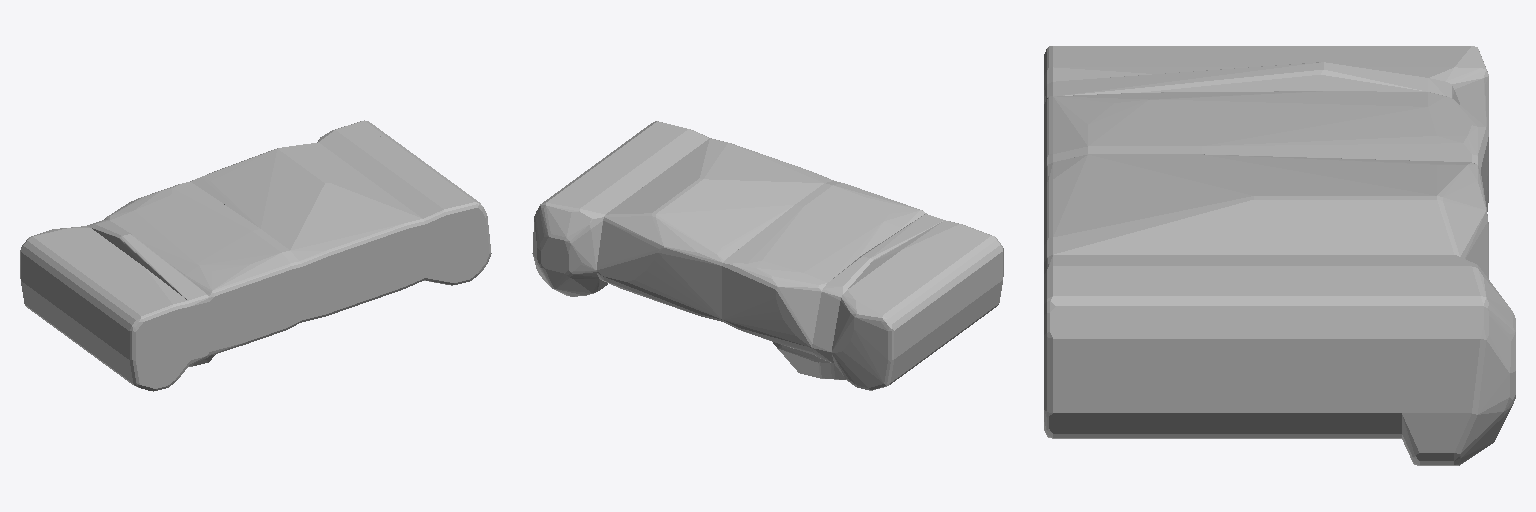
URDF robot description (root):
<robot name="root">
  <link name="link_coacd_convex_piece_0">
    <inertial>
      <origin xyz="0 0 0" rpy="0 0 0"/>
      <inertia ixx="1.26E-02" ixy="1.09E-03" ixz="-5.01E-03" iyy="1.44E-02" iyz="2.86E-04" izz="2.11E-02"/>
    </inertial>
    <visual>
      <origin xyz="0 0 0" rpy="0 0 0"/>
      <geometry>
        <mesh filename="coacd_convex_piece_0.obj" scale="1.0000E+00 1.0000E+00 1.0000E+00"/>
      </geometry>
      <material name="">
        <color rgba="7.50E-01 7.50E-01 7.50E-01 1"/>
      </material>
    </visual>
    <collision>
      <origin xyz="0 0 0" rpy="0 0 0"/>
      <geometry>
        <mesh filename="coacd_convex_piece_0.obj" scale="1.0000E+00 1.0000E+00 1.0000E+00"/>
      </geometry>
    </collision>
  </link>
  <link name="link_coacd_convex_piece_1">
    <inertial>
      <origin xyz="0 0 0" rpy="0 0 0"/>
      <inertia ixx="2.89E-03" ixy="-4.68E-03" ixz="-1.55E-03" iyy="9.38E-03" iyz="-8.44E-04" izz="1.15E-02"/>
    </inertial>
    <visual>
      <origin xyz="0 0 0" rpy="0 0 0"/>
      <geometry>
        <mesh filename="coacd_convex_piece_1.obj" scale="1.0000E+00 1.0000E+00 1.0000E+00"/>
      </geometry>
      <material name="">
        <color rgba="7.50E-01 7.50E-01 7.50E-01 1"/>
      </material>
    </visual>
    <collision>
      <origin xyz="0 0 0" rpy="0 0 0"/>
      <geometry>
        <mesh filename="coacd_convex_piece_1.obj" scale="1.0000E+00 1.0000E+00 1.0000E+00"/>
      </geometry>
    </collision>
  </link>
  <joint name="link_coacd_convex_piece_1_joint" type="fixed">
    <origin xyz="0 0 0" rpy="0 0 0"/>
    <parent link="link_coacd_convex_piece_0"/>
    <child link="link_coacd_convex_piece_1"/>
  </joint>
  <link name="link_coacd_convex_piece_2">
    <inertial>
      <origin xyz="0 0 0" rpy="0 0 0"/>
      <inertia ixx="5.10E-03" ixy="4.94E-03" ixz="-5.96E-03" iyy="2.98E-02" iyz="9.17E-04" izz="3.20E-02"/>
    </inertial>
    <visual>
      <origin xyz="0 0 0" rpy="0 0 0"/>
      <geometry>
        <mesh filename="coacd_convex_piece_2.obj" scale="1.0000E+00 1.0000E+00 1.0000E+00"/>
      </geometry>
      <material name="">
        <color rgba="7.50E-01 7.50E-01 7.50E-01 1"/>
      </material>
    </visual>
    <collision>
      <origin xyz="0 0 0" rpy="0 0 0"/>
      <geometry>
        <mesh filename="coacd_convex_piece_2.obj" scale="1.0000E+00 1.0000E+00 1.0000E+00"/>
      </geometry>
    </collision>
  </link>
  <joint name="link_coacd_convex_piece_2_joint" type="fixed">
    <origin xyz="0 0 0" rpy="0 0 0"/>
    <parent link="link_coacd_convex_piece_1"/>
    <child link="link_coacd_convex_piece_2"/>
  </joint>
  <link name="link_coacd_convex_piece_3">
    <inertial>
      <origin xyz="0 0 0" rpy="0 0 0"/>
      <inertia ixx="7.88E-03" ixy="-8.66E-04" ixz="1.72E-03" iyy="9.28E-03" iyz="1.23E-04" izz="1.55E-02"/>
    </inertial>
    <visual>
      <origin xyz="0 0 0" rpy="0 0 0"/>
      <geometry>
        <mesh filename="coacd_convex_piece_3.obj" scale="1.0000E+00 1.0000E+00 1.0000E+00"/>
      </geometry>
      <material name="">
        <color rgba="7.50E-01 7.50E-01 7.50E-01 1"/>
      </material>
    </visual>
    <collision>
      <origin xyz="0 0 0" rpy="0 0 0"/>
      <geometry>
        <mesh filename="coacd_convex_piece_3.obj" scale="1.0000E+00 1.0000E+00 1.0000E+00"/>
      </geometry>
    </collision>
  </link>
  <joint name="link_coacd_convex_piece_3_joint" type="fixed">
    <origin xyz="0 0 0" rpy="0 0 0"/>
    <parent link="link_coacd_convex_piece_2"/>
    <child link="link_coacd_convex_piece_3"/>
  </joint>
  <link name="link_coacd_convex_piece_4">
    <inertial>
      <origin xyz="0 0 0" rpy="0 0 0"/>
      <inertia ixx="1.32E-03" ixy="2.65E-04" ixz="-1.62E-03" iyy="3.77E-03" iyz="9.22E-05" izz="3.38E-03"/>
    </inertial>
    <visual>
      <origin xyz="0 0 0" rpy="0 0 0"/>
      <geometry>
        <mesh filename="coacd_convex_piece_4.obj" scale="1.0000E+00 1.0000E+00 1.0000E+00"/>
      </geometry>
      <material name="">
        <color rgba="7.50E-01 7.50E-01 7.50E-01 1"/>
      </material>
    </visual>
    <collision>
      <origin xyz="0 0 0" rpy="0 0 0"/>
      <geometry>
        <mesh filename="coacd_convex_piece_4.obj" scale="1.0000E+00 1.0000E+00 1.0000E+00"/>
      </geometry>
    </collision>
  </link>
  <joint name="link_coacd_convex_piece_4_joint" type="fixed">
    <origin xyz="0 0 0" rpy="0 0 0"/>
    <parent link="link_coacd_convex_piece_3"/>
    <child link="link_coacd_convex_piece_4"/>
  </joint>
  <link name="link_coacd_convex_piece_5">
    <inertial>
      <origin xyz="0 0 0" rpy="0 0 0"/>
      <inertia ixx="5.24E-03" ixy="-1.60E-03" ixz="-8.67E-05" iyy="3.51E-02" iyz="-1.17E-04" izz="3.97E-02"/>
    </inertial>
    <visual>
      <origin xyz="0 0 0" rpy="0 0 0"/>
      <geometry>
        <mesh filename="coacd_convex_piece_5.obj" scale="1.0000E+00 1.0000E+00 1.0000E+00"/>
      </geometry>
      <material name="">
        <color rgba="7.50E-01 7.50E-01 7.50E-01 1"/>
      </material>
    </visual>
    <collision>
      <origin xyz="0 0 0" rpy="0 0 0"/>
      <geometry>
        <mesh filename="coacd_convex_piece_5.obj" scale="1.0000E+00 1.0000E+00 1.0000E+00"/>
      </geometry>
    </collision>
  </link>
  <joint name="link_coacd_convex_piece_5_joint" type="fixed">
    <origin xyz="0 0 0" rpy="0 0 0"/>
    <parent link="link_coacd_convex_piece_4"/>
    <child link="link_coacd_convex_piece_5"/>
  </joint>
  <link name="link_coacd_convex_piece_6">
    <inertial>
      <origin xyz="0 0 0" rpy="0 0 0"/>
      <inertia ixx="1.49E-03" ixy="-4.35E-04" ixz="5.43E-04" iyy="5.88E-03" iyz="1.44E-05" izz="7.15E-03"/>
    </inertial>
    <visual>
      <origin xyz="0 0 0" rpy="0 0 0"/>
      <geometry>
        <mesh filename="coacd_convex_piece_6.obj" scale="1.0000E+00 1.0000E+00 1.0000E+00"/>
      </geometry>
      <material name="">
        <color rgba="7.50E-01 7.50E-01 7.50E-01 1"/>
      </material>
    </visual>
    <collision>
      <origin xyz="0 0 0" rpy="0 0 0"/>
      <geometry>
        <mesh filename="coacd_convex_piece_6.obj" scale="1.0000E+00 1.0000E+00 1.0000E+00"/>
      </geometry>
    </collision>
  </link>
  <joint name="link_coacd_convex_piece_6_joint" type="fixed">
    <origin xyz="0 0 0" rpy="0 0 0"/>
    <parent link="link_coacd_convex_piece_5"/>
    <child link="link_coacd_convex_piece_6"/>
  </joint>
  <link name="link_coacd_convex_piece_7">
    <inertial>
      <origin xyz="0 0 0" rpy="0 0 0"/>
      <inertia ixx="1.25E-04" ixy="5.66E-05" ixz="-3.07E-04" iyy="1.04E-03" iyz="1.06E-05" izz="1.01E-03"/>
    </inertial>
    <visual>
      <origin xyz="0 0 0" rpy="0 0 0"/>
      <geometry>
        <mesh filename="coacd_convex_piece_7.obj" scale="1.0000E+00 1.0000E+00 1.0000E+00"/>
      </geometry>
      <material name="">
        <color rgba="7.50E-01 7.50E-01 7.50E-01 1"/>
      </material>
    </visual>
    <collision>
      <origin xyz="0 0 0" rpy="0 0 0"/>
      <geometry>
        <mesh filename="coacd_convex_piece_7.obj" scale="1.0000E+00 1.0000E+00 1.0000E+00"/>
      </geometry>
    </collision>
  </link>
  <joint name="link_coacd_convex_piece_7_joint" type="fixed">
    <origin xyz="0 0 0" rpy="0 0 0"/>
    <parent link="link_coacd_convex_piece_6"/>
    <child link="link_coacd_convex_piece_7"/>
  </joint>
</robot>

--- Facts derived from the render (not from the file) ---
The picture shows the robot from 3 angles, left to right: view 1: azimuth 30°, elevation 25°; view 2: azimuth 150°, elevation 25°; view 3: azimuth 270°, elevation 25°; orthographic projection.
Robot: root — 8 links, 7 joints (7 fixed); root link link_coacd_convex_piece_0; default pose: all joints at 0.
Links seen in each view (by area): view 1: link_coacd_convex_piece_0, link_coacd_convex_piece_5, link_coacd_convex_piece_3, link_coacd_convex_piece_2, link_coacd_convex_piece_6, link_coacd_convex_piece_1; view 2: link_coacd_convex_piece_0, link_coacd_convex_piece_5, link_coacd_convex_piece_3, link_coacd_convex_piece_1, link_coacd_convex_piece_2, link_coacd_convex_piece_6, link_coacd_convex_piece_4; view 3: link_coacd_convex_piece_2, link_coacd_convex_piece_0, link_coacd_convex_piece_3, link_coacd_convex_piece_1, link_coacd_convex_piece_5, link_coacd_convex_piece_6.
Link boxes in pixels (<box>): link_coacd_convex_piece_0: <box>190,142,424,322</box>; link_coacd_convex_piece_5: <box>20,226,189,391</box>; link_coacd_convex_piece_3: <box>104,182,301,355</box>; link_coacd_convex_piece_2: <box>333,136,491,285</box>; link_coacd_convex_piece_6: <box>87,220,209,364</box>; link_coacd_convex_piece_1: <box>317,120,389,151</box>; link_coacd_convex_piece_0: <box>596,138,833,321</box>; link_coacd_convex_piece_5: <box>831,220,1003,390</box>; link_coacd_convex_piece_3: <box>722,181,926,354</box>; link_coacd_convex_piece_1: <box>532,188,618,296</box>; link_coacd_convex_piece_2: <box>562,121,708,203</box>; link_coacd_convex_piece_6: <box>812,214,943,363</box>; link_coacd_convex_piece_4: <box>773,342,845,379</box>; link_coacd_convex_piece_2: <box>1044,255,1401,438</box>; link_coacd_convex_piece_0: <box>1044,154,1488,278</box>; link_coacd_convex_piece_3: <box>1044,91,1488,211</box>; link_coacd_convex_piece_1: <box>1402,255,1515,465</box>; link_coacd_convex_piece_5: <box>1044,46,1488,131</box>; link_coacd_convex_piece_6: <box>1044,62,1459,104</box>.
Bounding box of the posed robot: 1.69 × 0.9917 × 0.6611 m (x, y, z).
Meshes: 8 distinct files referenced, 8 mesh visuals loaded (8 OBJ).
